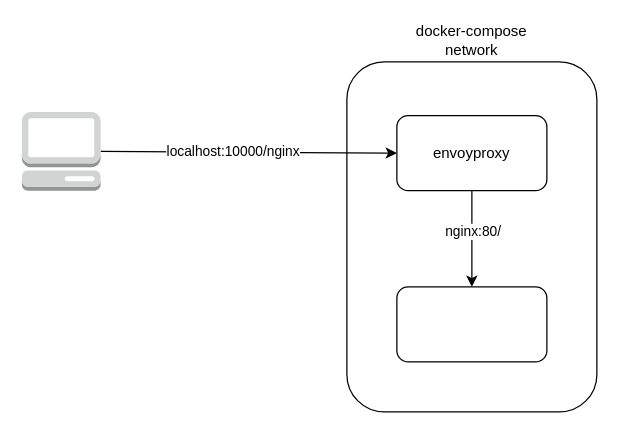
Image size: 619x434. Some labels were removed from this diagram. Each missing label, with the centre of its shape:
"client" goes at [61,151].
"nginx" goes at [471,324].
